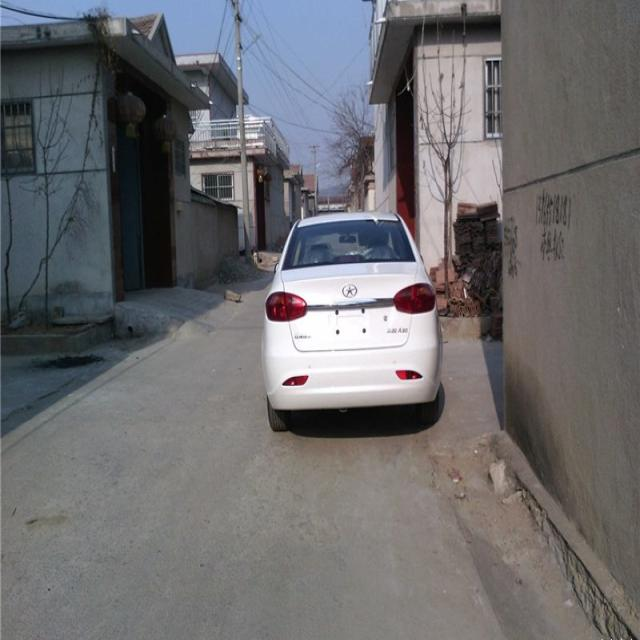back_glass: (280, 219, 418, 272)
back_left_side_light: (265, 288, 307, 323)
back_right_side_light: (392, 281, 438, 315)
rear_bumper: (262, 340, 443, 411)
